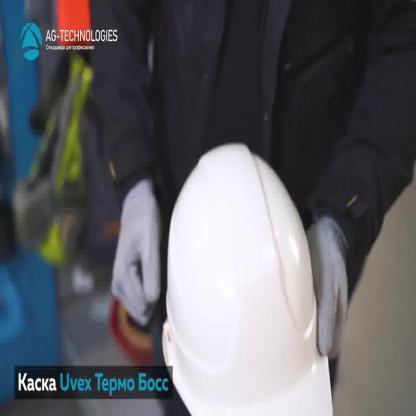gloves: (111, 180, 162, 324), (306, 213, 348, 362)
helmet: (160, 141, 334, 415)
